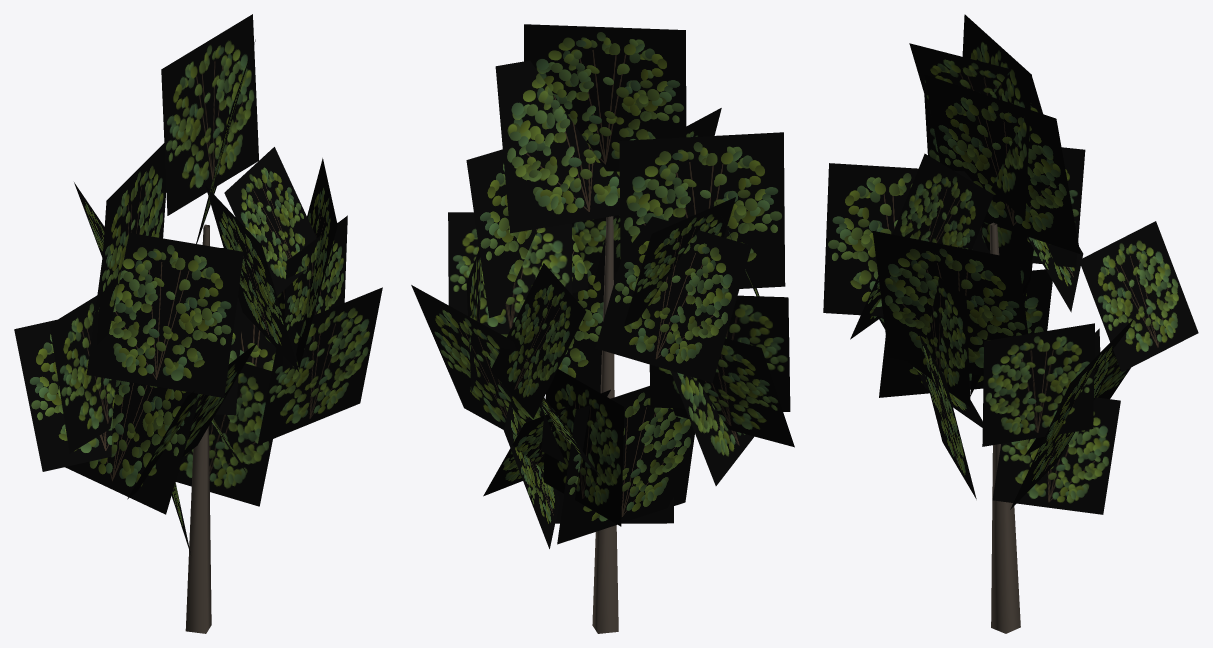
File: tpl_dike_row_dike_poplar_lo.glb
The picture shows the model from 3 angles, left to right: view 1: azimuth 30°, elevation 25°; view 2: azimuth 150°, elevation 25°; view 3: azimuth 270°, elevation 25°; orthographic projection. The views are drawn at different scales.
Visible parts, largest first — view 1: tpl_dike_row_dike_poplar_lo; view 2: tpl_dike_row_dike_poplar_lo; view 3: tpl_dike_row_dike_poplar_lo.
Boxes of the visible parts, left/top/right/bottom form: tpl_dike_row_dike_poplar_lo: left=14, top=14, right=382, bottom=633; tpl_dike_row_dike_poplar_lo: left=411, top=24, right=794, bottom=633; tpl_dike_row_dike_poplar_lo: left=823, top=14, right=1198, bottom=633.
Bounding box in the file's own units: 15.49 × 26.36 × 15.31.
2 materials, 1 textured.
